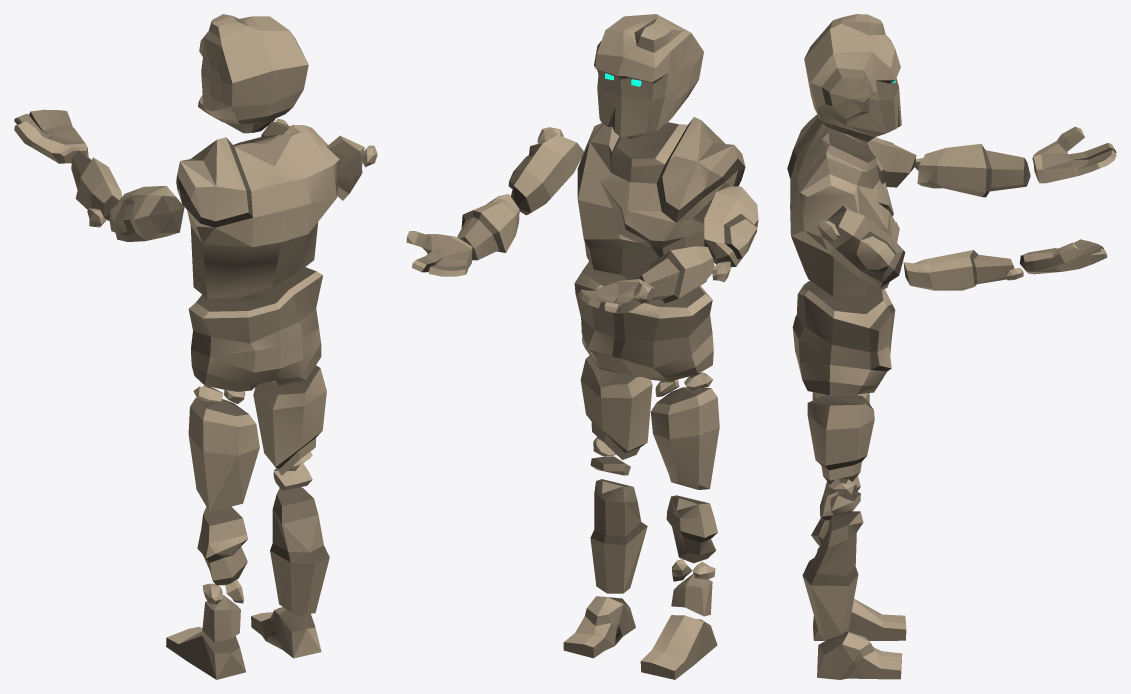
File: GolemChoice2.fbx
3 views of the same model, side by side, from view 1: azimuth 30°, elevation 25°; view 2: azimuth 150°, elevation 25°; view 3: azimuth 270°, elevation 25° (orthographic).
Visible parts, largest first — view 1: Chest, Waist, Head, UpperLeg.R, UpperLeg.L, LowerLeg.L, LowerLeg.R, UpperArm.R, Hand.R, Foot.R, LowerArm.R, Foot.L (+2 smaller); view 2: Chest, Head, Waist, UpperLeg.R, UpperLeg.L, LowerLeg.L, LowerLeg.R, UpperArm.L, UpperArm.R, Foot.R, LowerArm.R, Foot.L (+3 smaller); view 3: Chest, Head, Waist, UpperLeg.L, LowerLeg.L, LowerArm.R, UpperArm.L, LowerArm.L, Foot.L, Hand.R, Hand.L, Foot.R (+2 smaller).
Boxes of the visible parts, x1,y1,x2,y2 form: Chest: (176,130,339,298); Waist: (188,267,322,391); Head: (199,14,308,124); UpperLeg.R: (188,385,259,511); UpperLeg.L: (253,365,326,490); LowerLeg.L: (270,487,329,616); LowerLeg.R: (197,506,247,642); UpperArm.R: (109,185,184,241); Hand.R: (14,109,88,163); Foot.R: (166,626,245,679); LowerArm.R: (71,150,121,227); Foot.L: (251,607,321,658); Chest: (577,117,745,293); Head: (594,14,703,138); Waist: (574,261,713,381); UpperLeg.R: (650,372,719,489); UpperLeg.L: (580,355,652,475); LowerLeg.L: (590,479,647,593); LowerLeg.R: (666,495,717,616); UpperArm.L: (508,127,583,215); UpperArm.R: (704,186,758,267); Foot.R: (640,615,717,679); LowerArm.R: (638,246,730,303); Foot.L: (563,596,635,658); Chest: (787,114,899,296); Head: (804,14,901,141); Waist: (792,280,895,395); UpperLeg.L: (807,395,874,515); LowerLeg.L: (802,511,863,640); LowerArm.R: (914,144,1030,197); UpperArm.L: (817,205,905,287); LowerArm.L: (903,250,1023,290); Foot.L: (817,631,902,679); Hand.R: (1032,126,1116,183); Hand.L: (1019,239,1107,274); Foot.R: (813,599,906,640).
Bounding box in the file's own units: 260 × 633 × 302.
